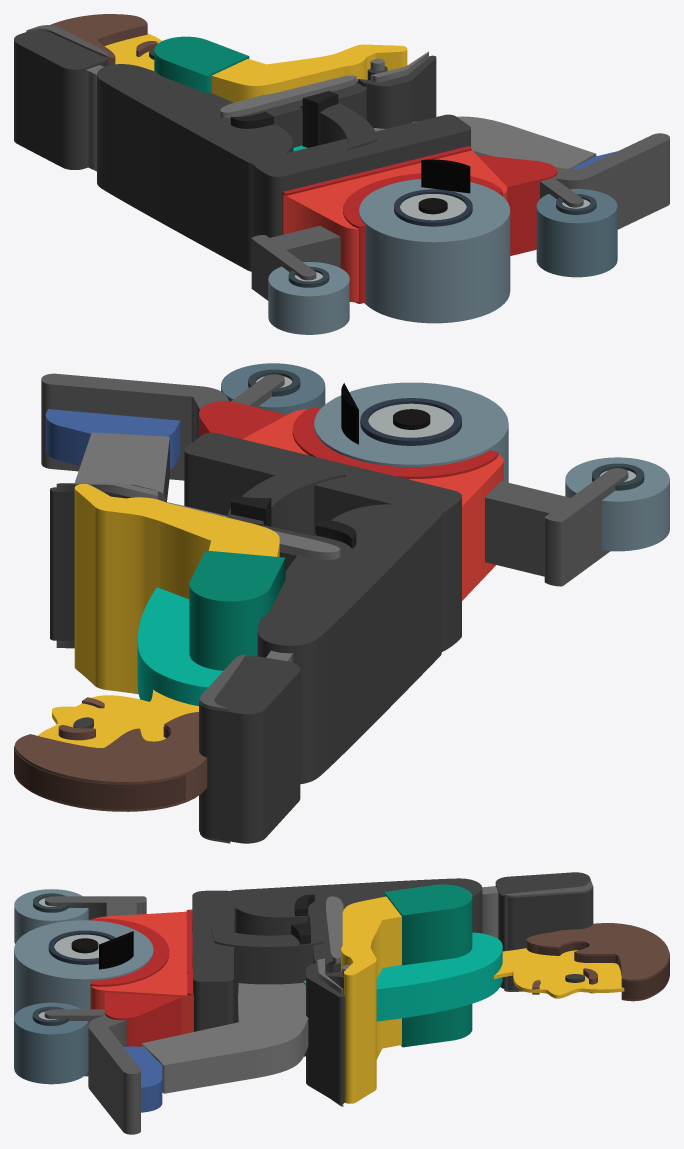
File: emoji_u1f468_200d_1f9bc_200d_27a1.glb
The picture shows the model from 3 angles, top to bottom: view 1: azimuth 30°, elevation 25°; view 2: azimuth 150°, elevation 25°; view 3: azimuth 270°, elevation 25°; orthographic projection. The views are drawn at different scales.
Visible parts, largest first — view 1: emoji_u1f468_200d_1f9bc_200d_27a1; view 2: emoji_u1f468_200d_1f9bc_200d_27a1; view 3: emoji_u1f468_200d_1f9bc_200d_27a1.
Part boxes in pixels (left/top/right/bottom): emoji_u1f468_200d_1f9bc_200d_27a1: left=14, top=14, right=669, bottom=334; emoji_u1f468_200d_1f9bc_200d_27a1: left=14, top=363, right=669, bottom=843; emoji_u1f468_200d_1f9bc_200d_27a1: left=14, top=872, right=669, bottom=1134.
Size of the model in its own units: 0.0237 by 0.0074 by 0.0333.
